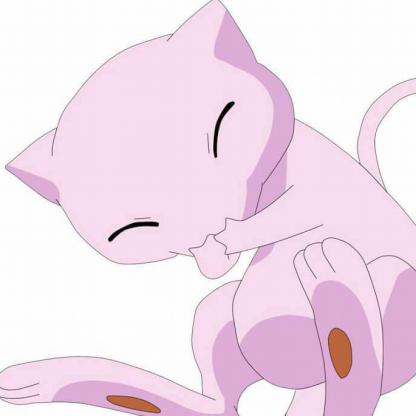Mew: (1, 2, 416, 416)
